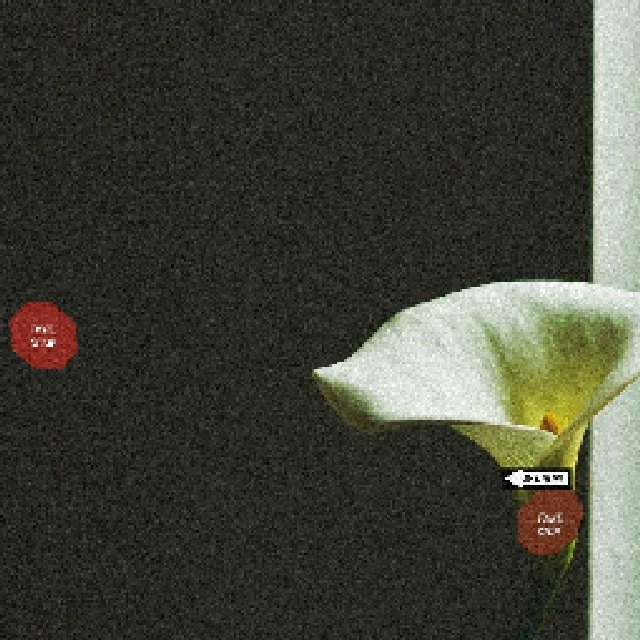FAKE_STOP: (514, 483, 583, 554), (6, 300, 77, 368)
ONE_WAY_ left: (499, 465, 570, 488)
